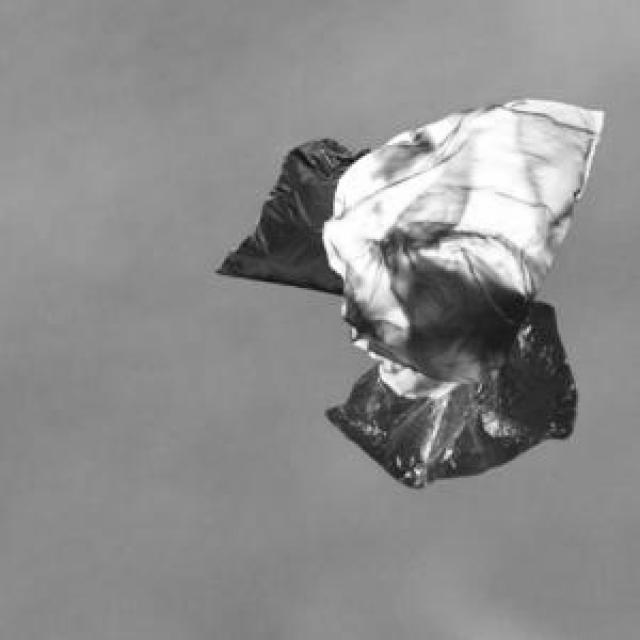miscellaneous trash: (322, 299, 574, 484), (211, 134, 367, 292)
